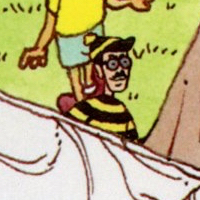odlaw: (97, 34, 129, 93)
